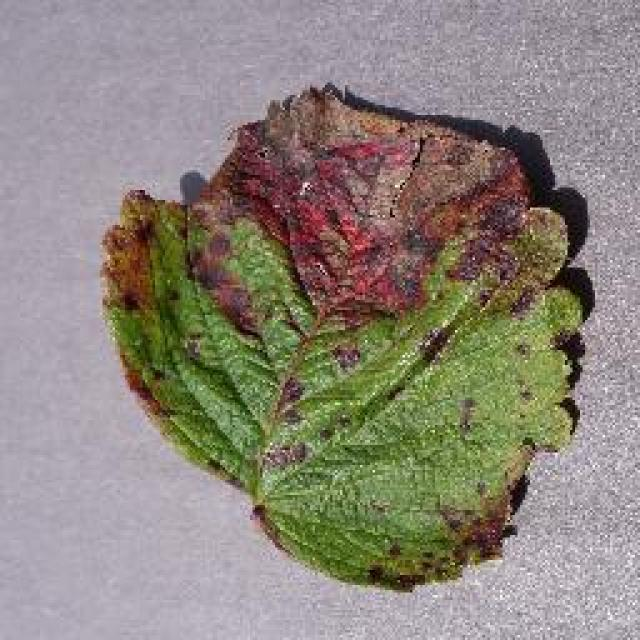Strawberry leaf scorch: (113, 69, 535, 354)
